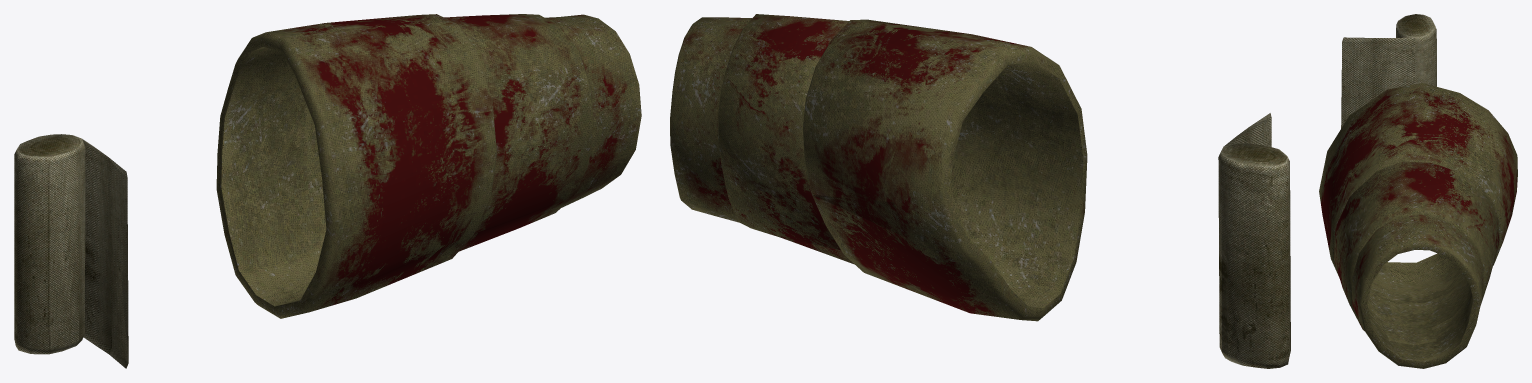
The model's file is Bandage.FBX.
3 views of the same model, side by side, from view 1: azimuth 30°, elevation 25°; view 2: azimuth 150°, elevation 25°; view 3: azimuth 270°, elevation 25° (orthographic). The views are drawn at different scales.
Parts seen in each view (by area): view 1: sK_ArmBandege, SK_Bandage; view 2: sK_ArmBandege, SK_Bandage; view 3: sK_ArmBandege, SK_Bandage.
Part boxes in pixels (x1=…): sK_ArmBandege: x1=216, y1=14, x2=641, y2=318; SK_Bandage: x1=14, y1=134, x2=128, y2=368; sK_ArmBandege: x1=670, y1=14, x2=1087, y2=321; SK_Bandage: x1=1218, y1=113, x2=1290, y2=368; sK_ArmBandege: x1=1319, y1=83, x2=1517, y2=368; SK_Bandage: x1=1341, y1=14, x2=1436, y2=128.
Bounding box in the file's own units: 27.52 × 11.54 × 10.16.
